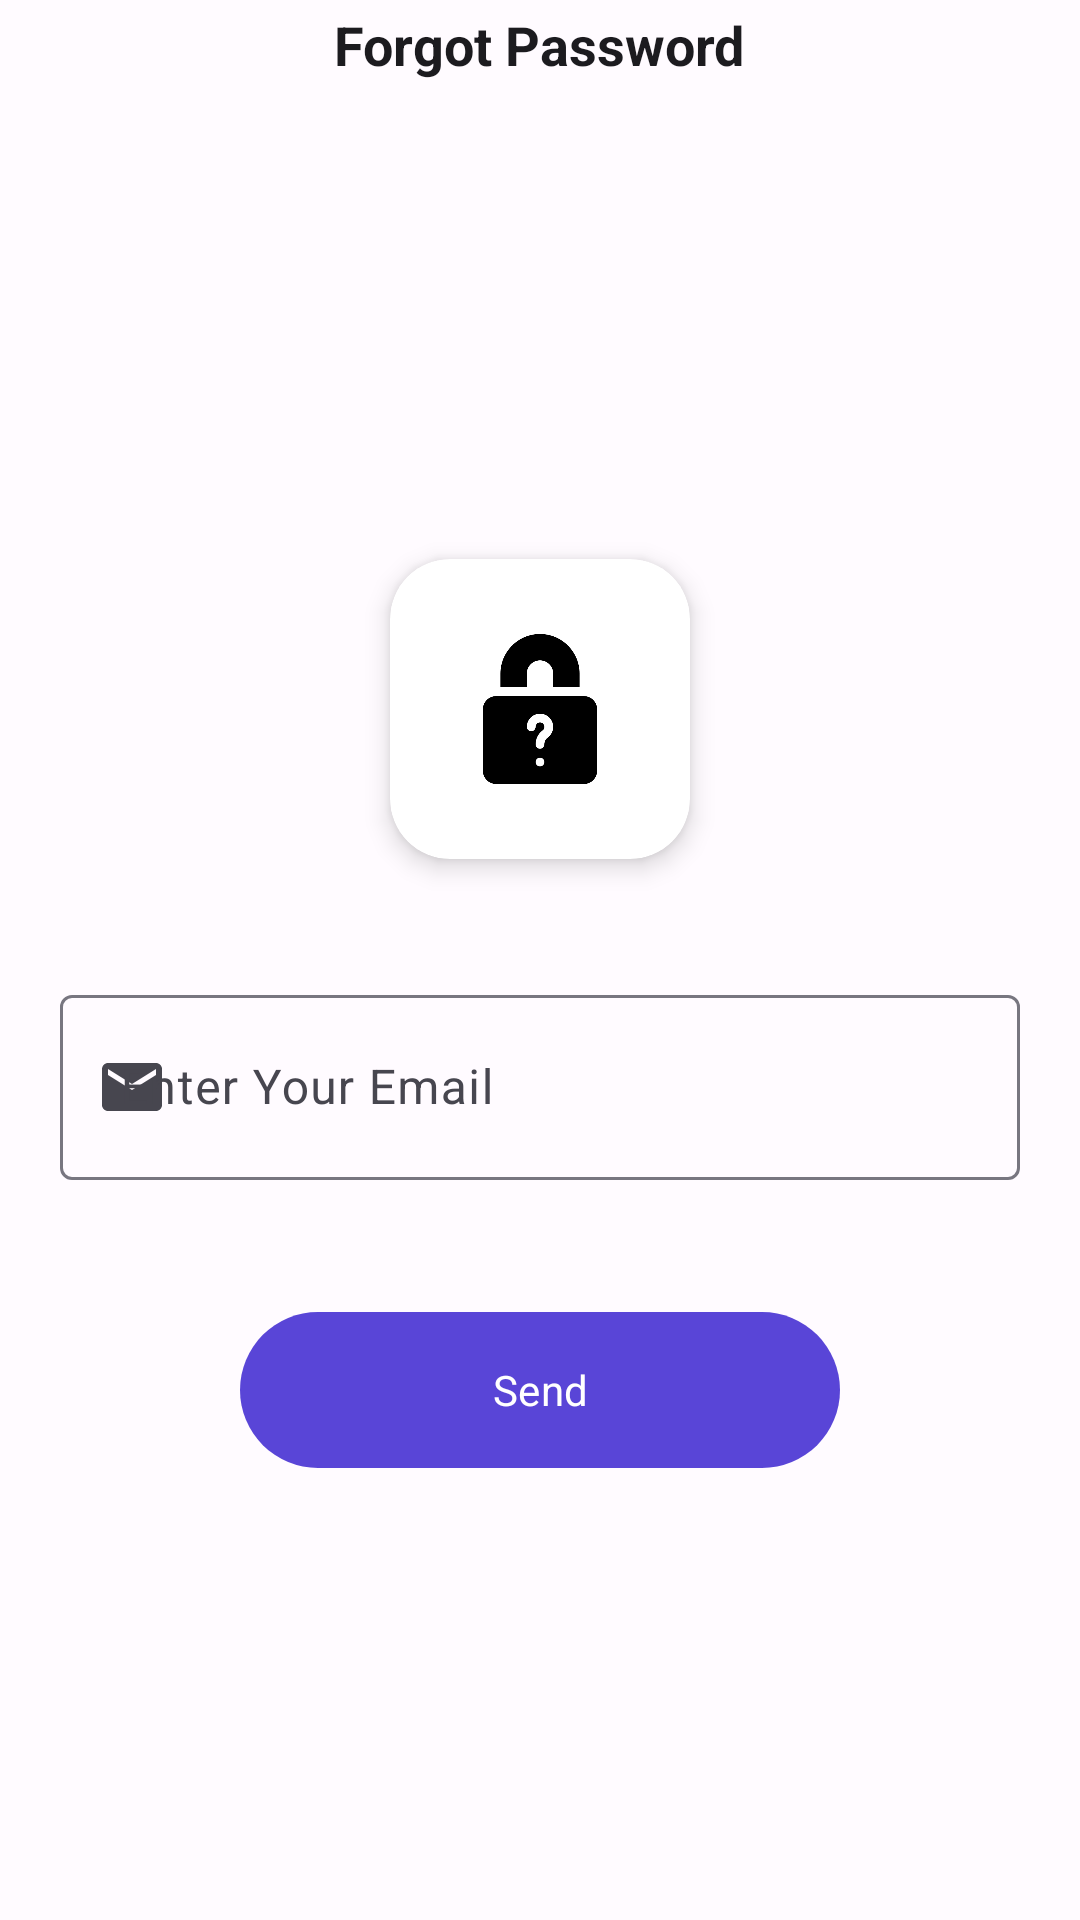

Where icons sit on this 1080 x 1920 app screen, as (x1, y1, x2, y2):
forgot: (390, 559, 690, 859)
